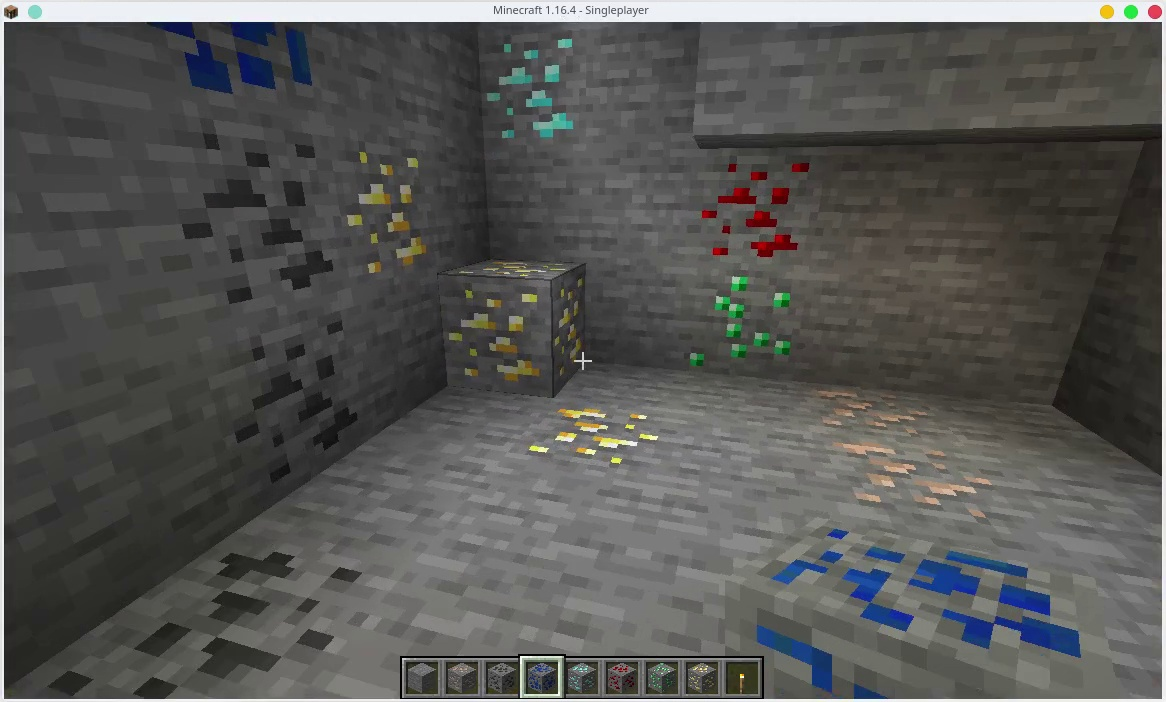gold: (437, 266, 588, 388), (327, 152, 428, 280), (531, 399, 660, 470), (685, 662, 718, 695)
